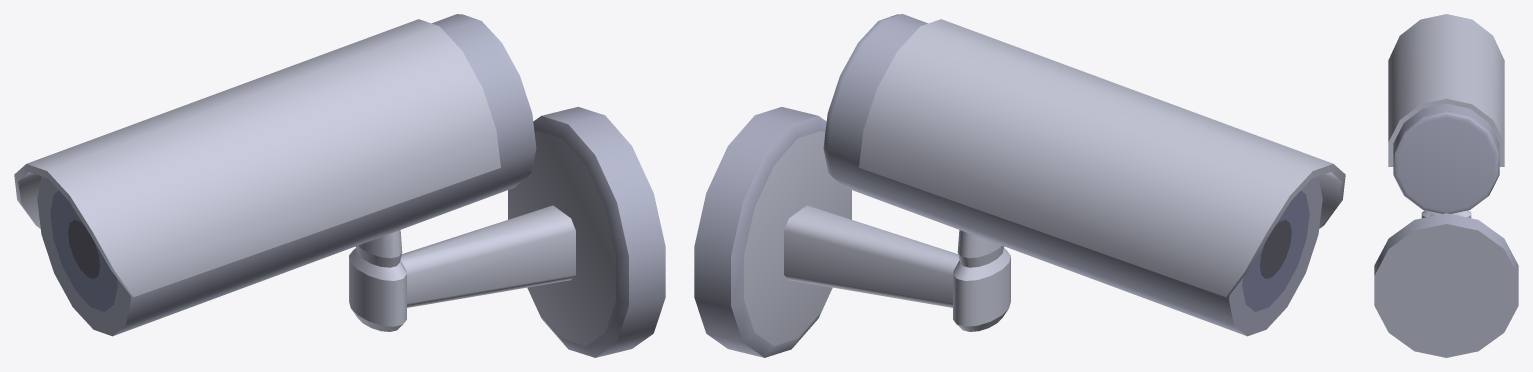
The model's file is c_cam (1).fbx.
3 views of the same model, side by side, from view 1: azimuth 30°, elevation 25°; view 2: azimuth 150°, elevation 25°; view 3: azimuth 270°, elevation 25° (orthographic). The views are drawn at different scales.
Visible parts, largest first — view 1: polySurface2, polySurface4, polySurface3; view 2: polySurface2, polySurface4, polySurface3; view 3: polySurface2, polySurface4, polySurface3.
Boxes of the visible parts, x1,y1,x2,y2 form: polySurface2: (14,14,536,336); polySurface4: (508,107,665,357); polySurface3: (349,205,575,331); polySurface2: (823,14,1345,336); polySurface4: (694,107,851,357); polySurface3: (784,205,1010,331); polySurface2: (1388,14,1504,213); polySurface4: (1374,213,1518,357); polySurface3: (1421,210,1471,218).
Size of the model in its own units: 10.91 by 6.62 by 4.1.
